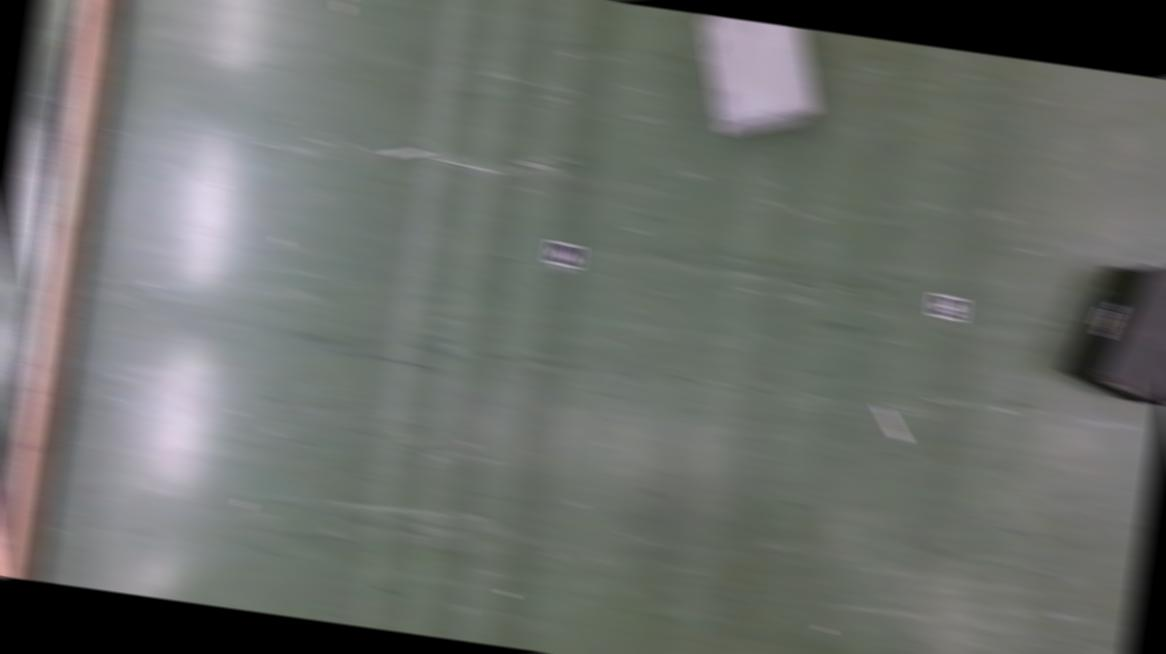probes: (872, 405, 909, 442), (382, 143, 429, 163)
rako: (684, 13, 828, 150), (1055, 255, 1166, 407)
